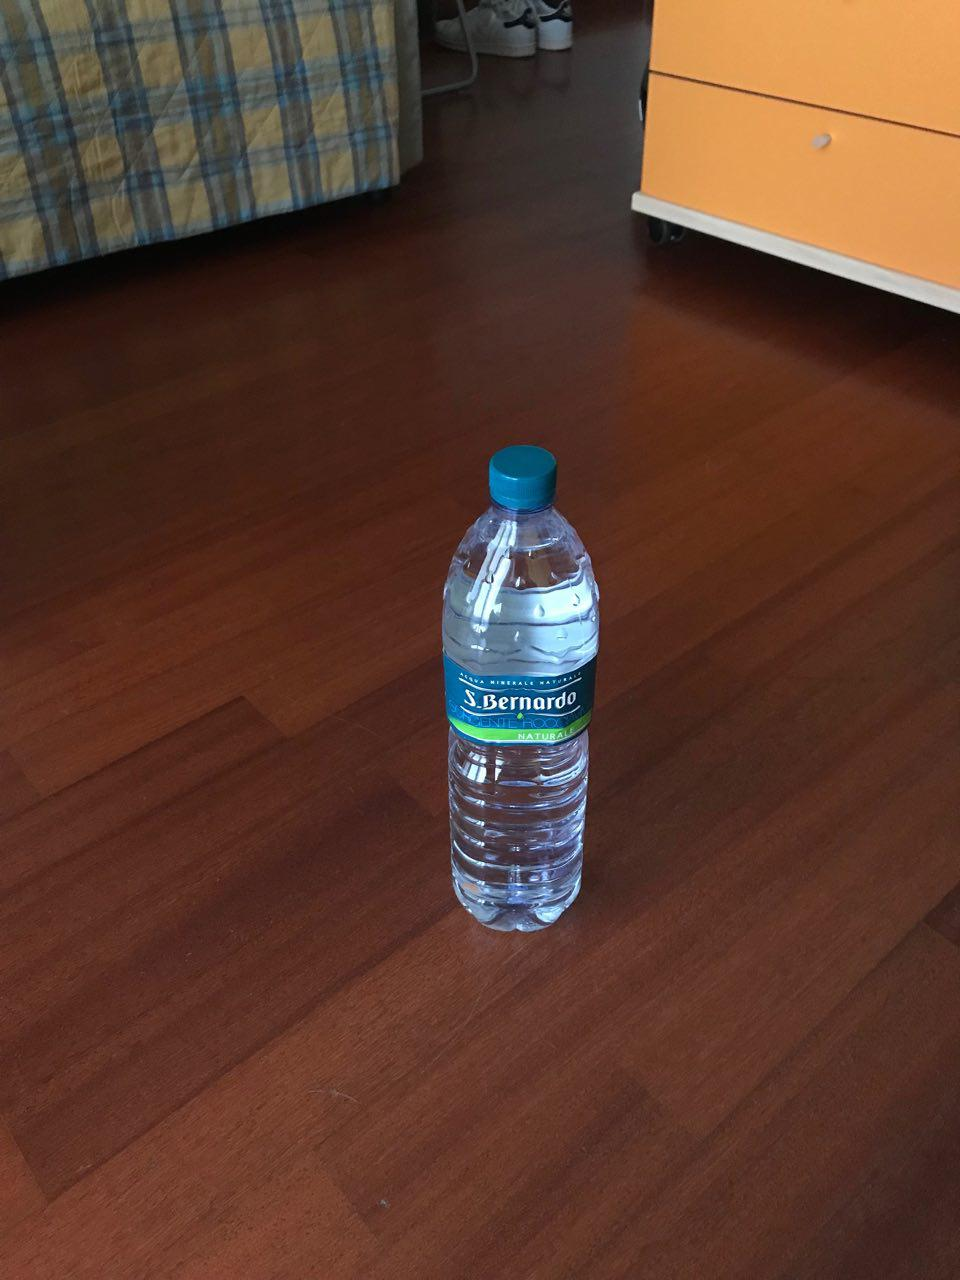san_bernardo: (439, 442, 602, 933)
